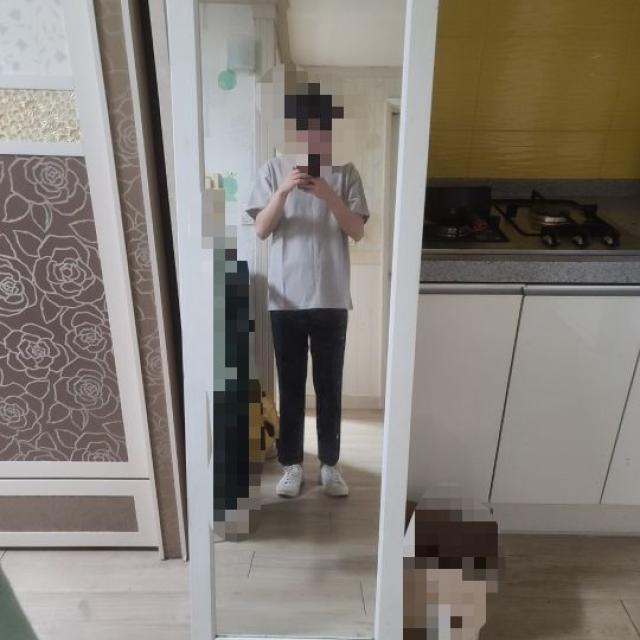shortsleeve: (242, 163, 368, 315)
slacks: (267, 308, 346, 465)
